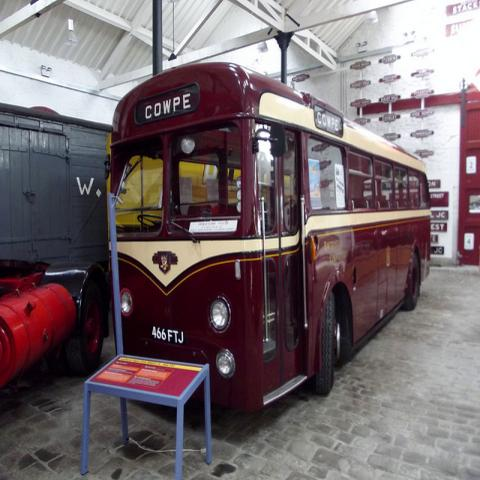bus: (105, 65, 433, 432)
truck: (2, 106, 113, 365)
